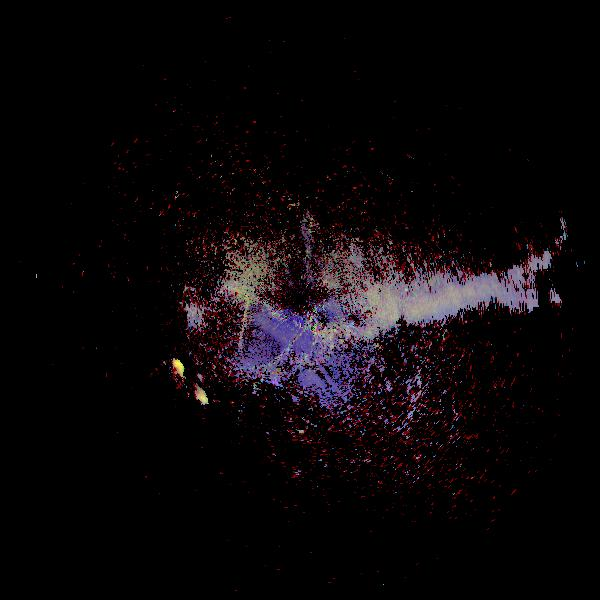roost: (160, 354, 190, 384), (188, 387, 212, 411)
